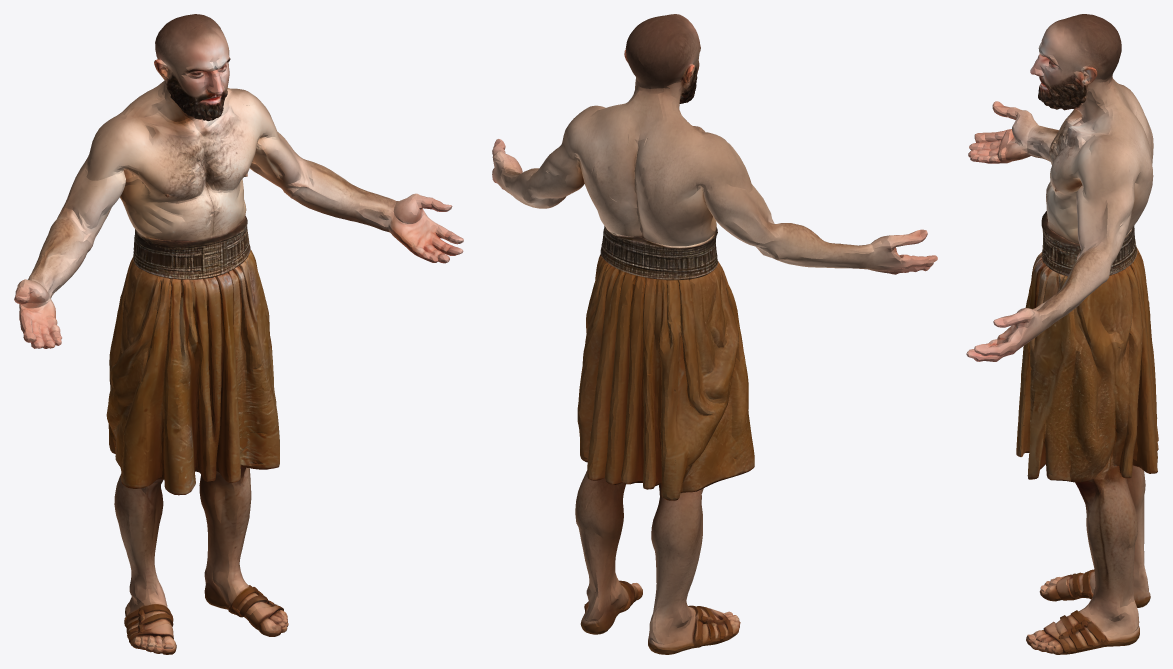
The model's file is potter_rodin_source.glb.
3 renders of one model, left to right at view 1: azimuth 30°, elevation 25°; view 2: azimuth 150°, elevation 25°; view 3: azimuth 270°, elevation 25°, orthographic.
Parts seen in each view (by area): view 1: model; view 2: model; view 3: model.
Part boxes in pixels (left/top/right/bottom): model: left=14, top=14, right=463, bottom=654; model: left=492, top=14, right=937, bottom=654; model: left=966, top=14, right=1158, bottom=654.
Bounding box in the file's own units: 1.42 × 1.9 × 0.5495.
1 material, 1 textured.
